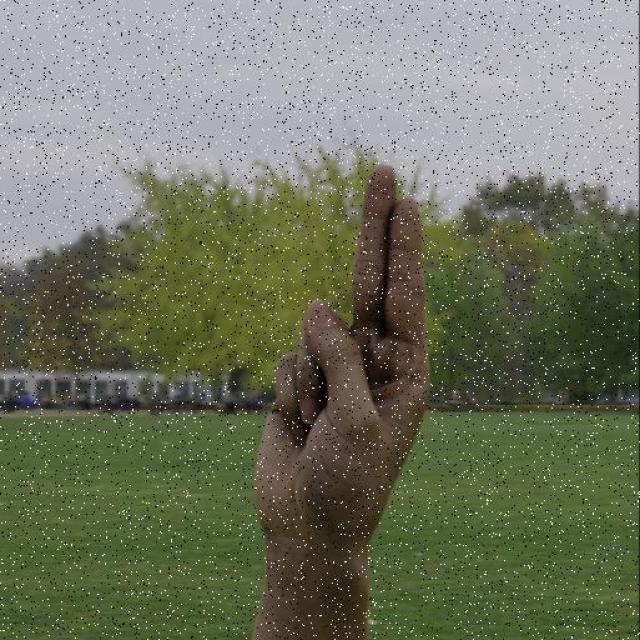U: (251, 160, 435, 546)
